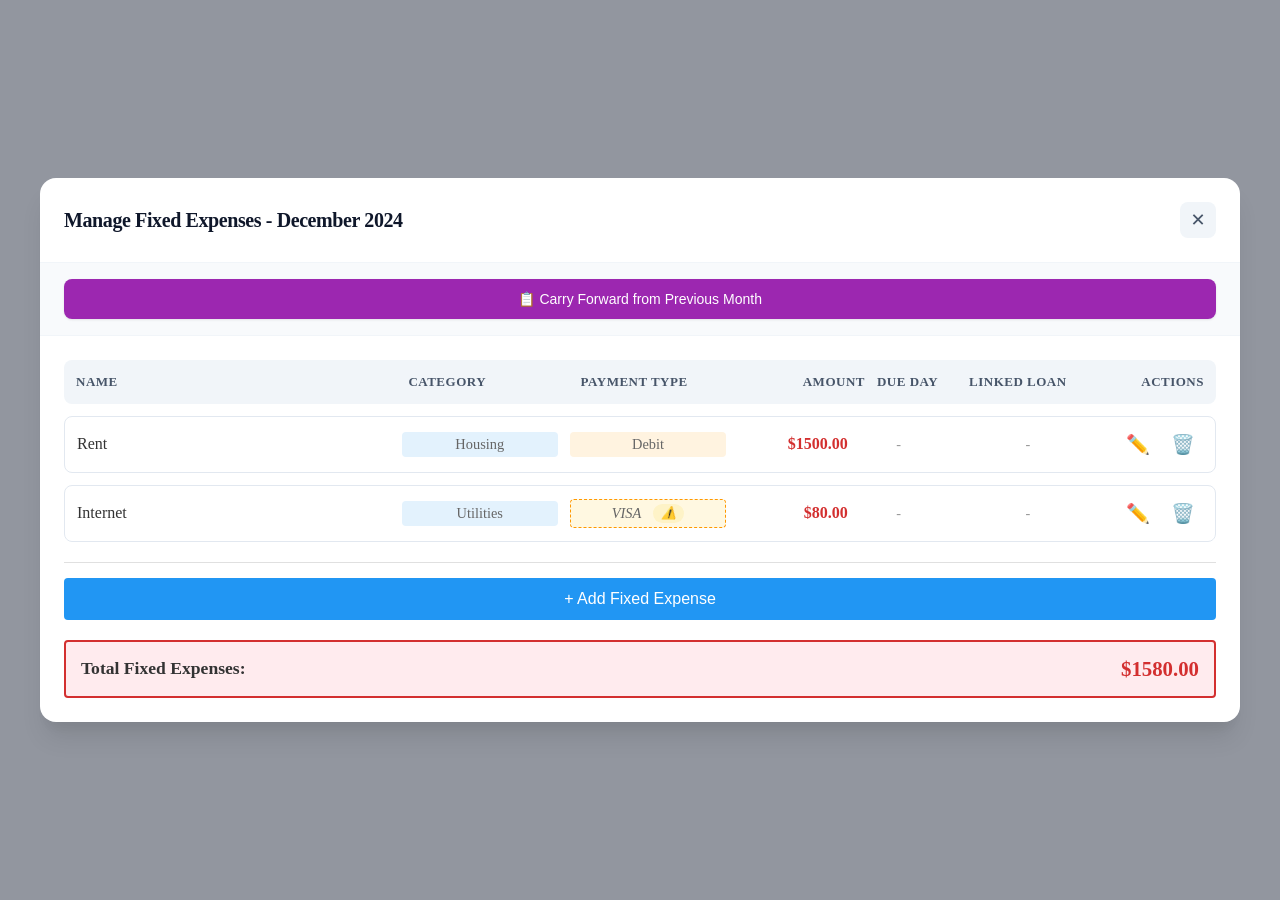
FixedExpensesModal › Add Fixed Expense › shows add form when button is clicked
What coordinates should you click on to do the following:
click the button "+ Add Fixed Expense"
I would click on:
 (640, 599)
Its box is [64,578,1216,620].
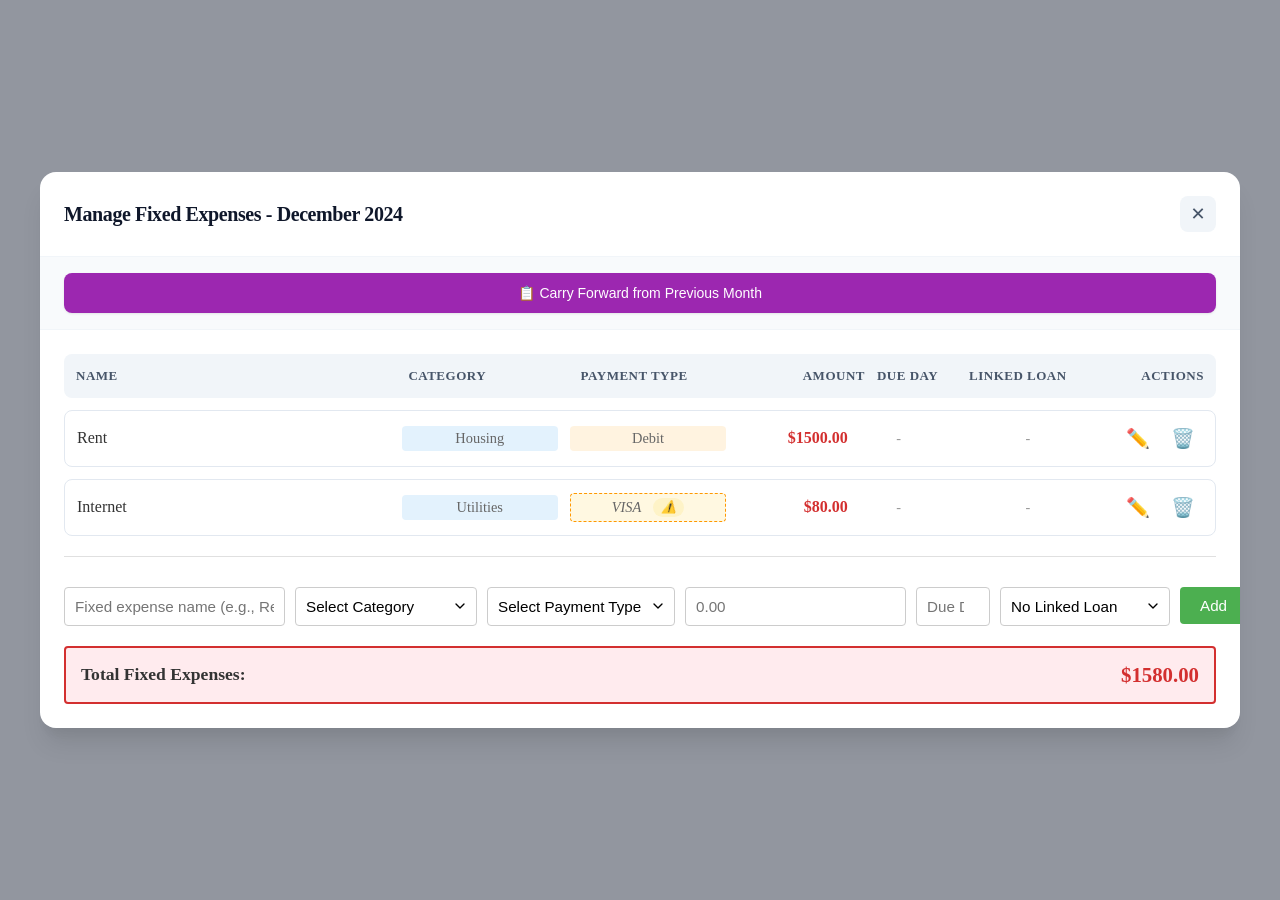
Now the field with placeholder "Fixed expense name (e.g., Rent)" is shown, box [64,587,285,626]
